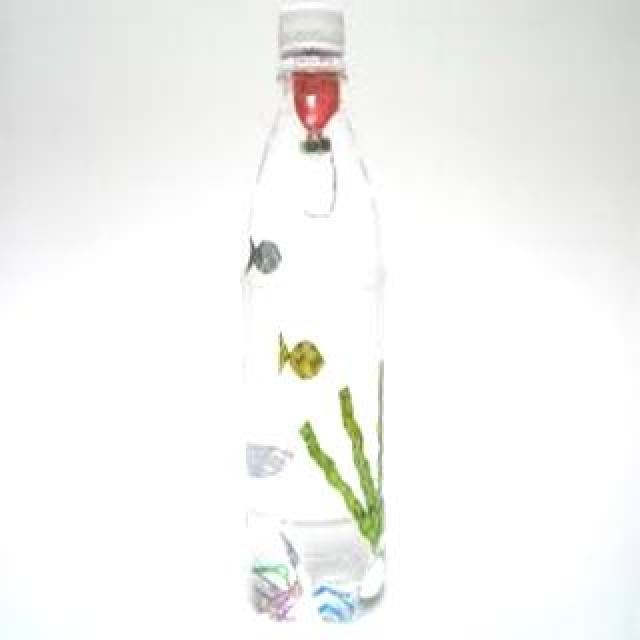Pet_Bottle: (228, 0, 406, 624)
